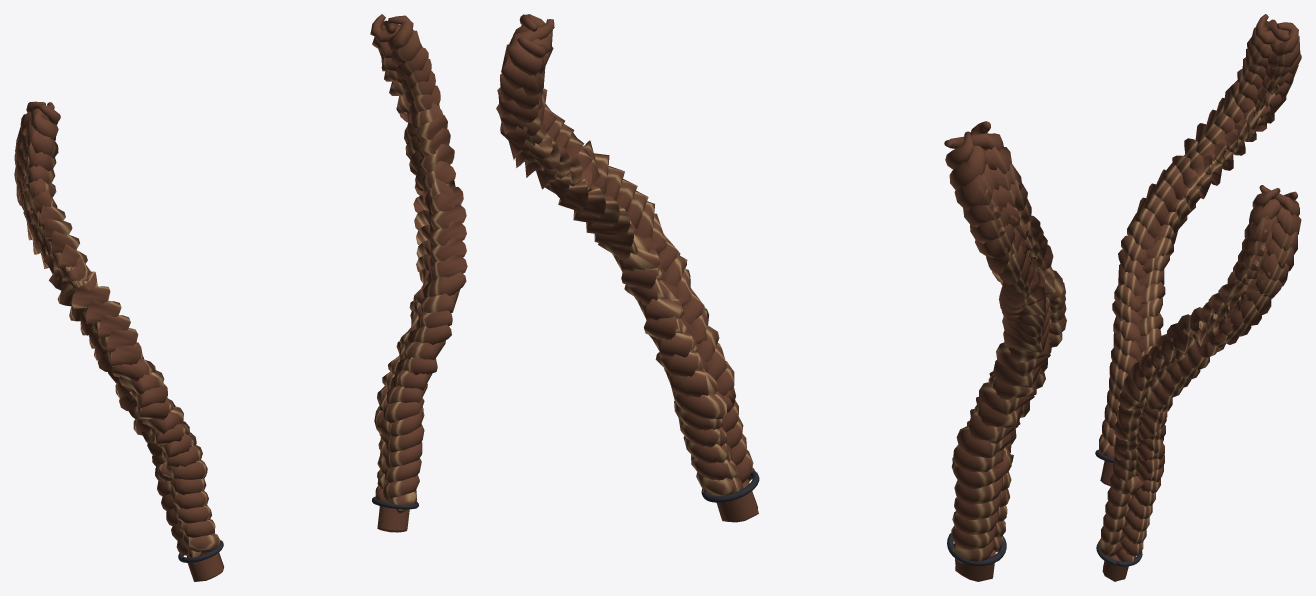
File: Highlights-3e99e4fdd102252-hair.glb
The picture shows the model from 3 angles, left to right: view 1: azimuth 30°, elevation 25°; view 2: azimuth 150°, elevation 25°; view 3: azimuth 270°, elevation 25°; orthographic projection. The views are drawn at different scales.
Parts seen in each view (by area): view 1: 226 hairLengths / Hair / chestnut226, 226 hairLengths / Hair / ties226; view 2: 226 hairLengths / Hair / chestnut226, 226 hairLengths / Hair / ties226; view 3: 226 hairLengths / Hair / chestnut226, 226 hairLengths / Hair / ties226.
Part boxes in pixels (x1,y1,x2,y2): 226 hairLengths / Hair / chestnut226: (14, 14, 467, 581); 226 hairLengths / Hair / ties226: (178, 496, 418, 562); 226 hairLengths / Hair / chestnut226: (496, 14, 1066, 581); 226 hairLengths / Hair / ties226: (701, 471, 1006, 566); 226 hairLengths / Hair / chestnut226: (1098, 14, 1301, 581); 226 hairLengths / Hair / ties226: (1095, 449, 1142, 566).
Size of the model in its own units: 1.03 by 1.05 by 0.4585.
2 materials, 1 textured.
